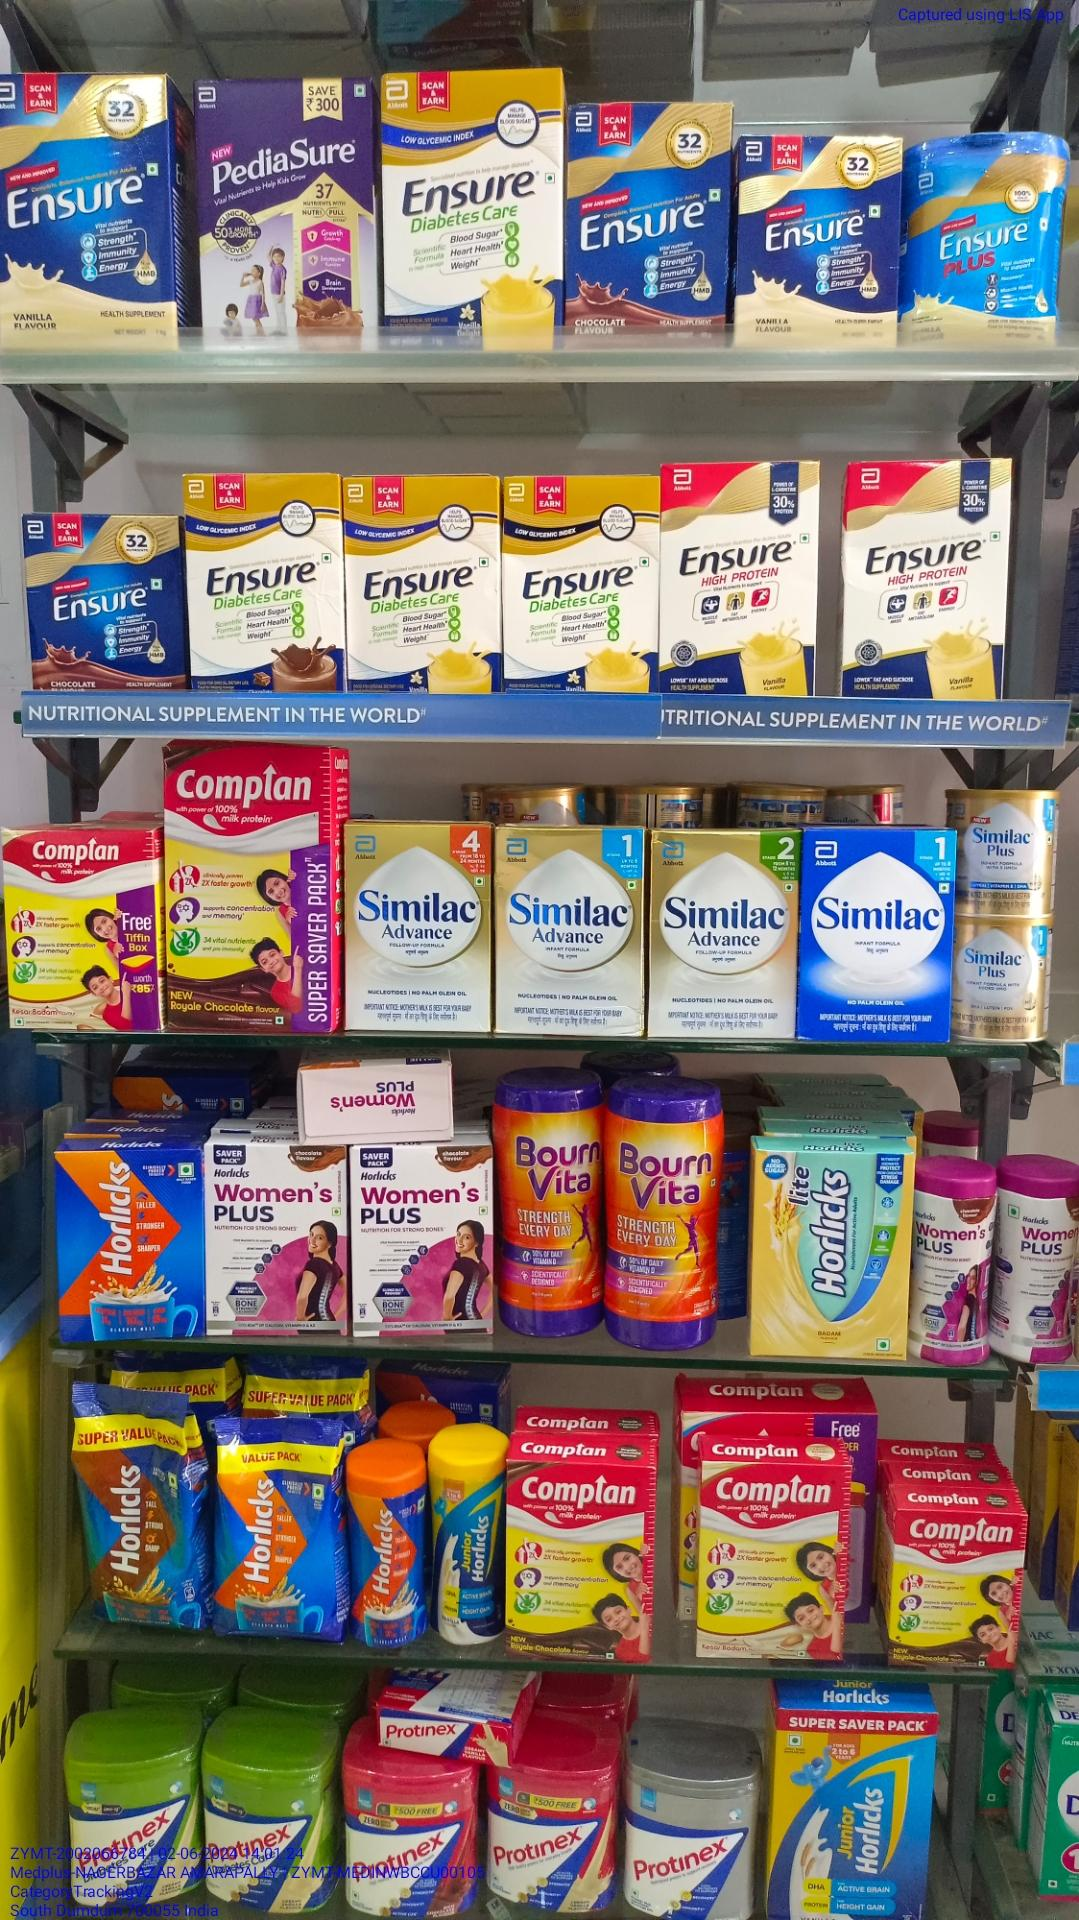HORLICKS_JUNIOR_VANILLA_500_GM_JAR: (439, 1428, 509, 1640)
PROTINEX_CHOCOLATE_400_G_JAR: (343, 1759, 470, 1913)
PROTINEX_ORIGINAL_400_G_JAR: (629, 1774, 758, 1920)
PROTINEX_VANILLA_400_G_JAR: (497, 1753, 607, 1915)
